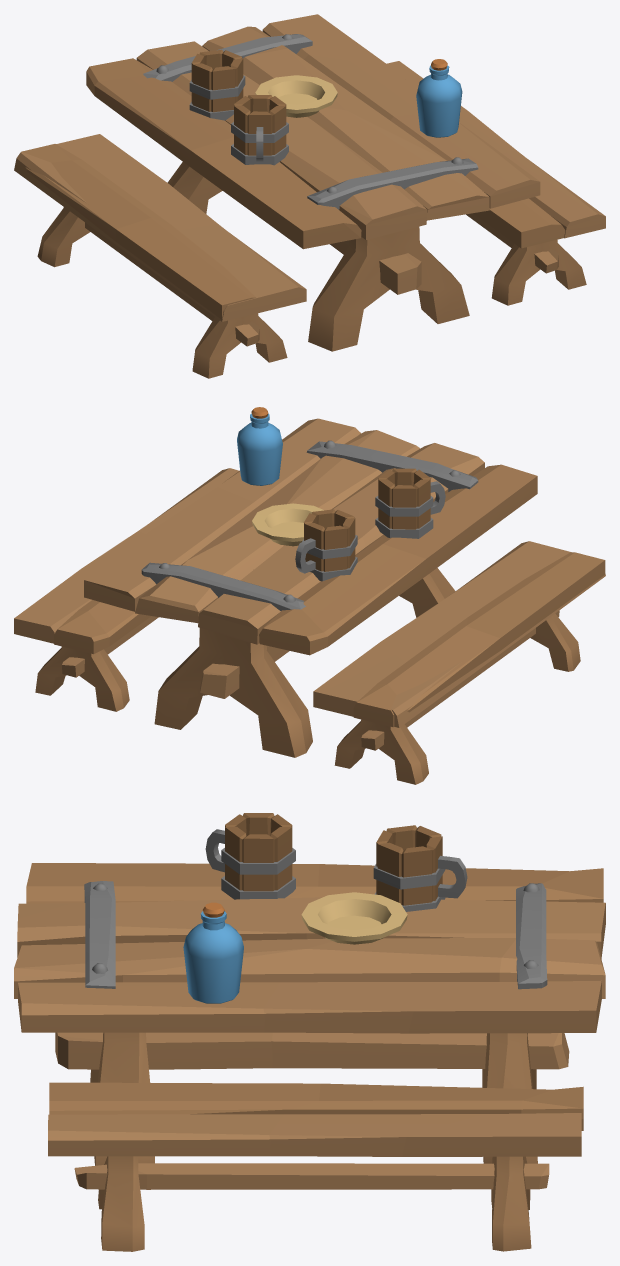
The model's file is Market_Table_A.fbx.
3 views of the same model, one above another, from view 1: azimuth 30°, elevation 25°; view 2: azimuth 150°, elevation 25°; view 3: azimuth 270°, elevation 25° (orthographic). The views are drawn at different scales.
Parts seen in each view (by area): view 1: Market_Table_A; view 2: Market_Table_A; view 3: Market_Table_A.
Part boxes in pixels (bbox=[...]): Market_Table_A: bbox=[14, 14, 605, 378]; Market_Table_A: bbox=[14, 407, 605, 784]; Market_Table_A: bbox=[14, 813, 605, 1251].
Bounding box in the file's own units: 214 × 114 × 220.
